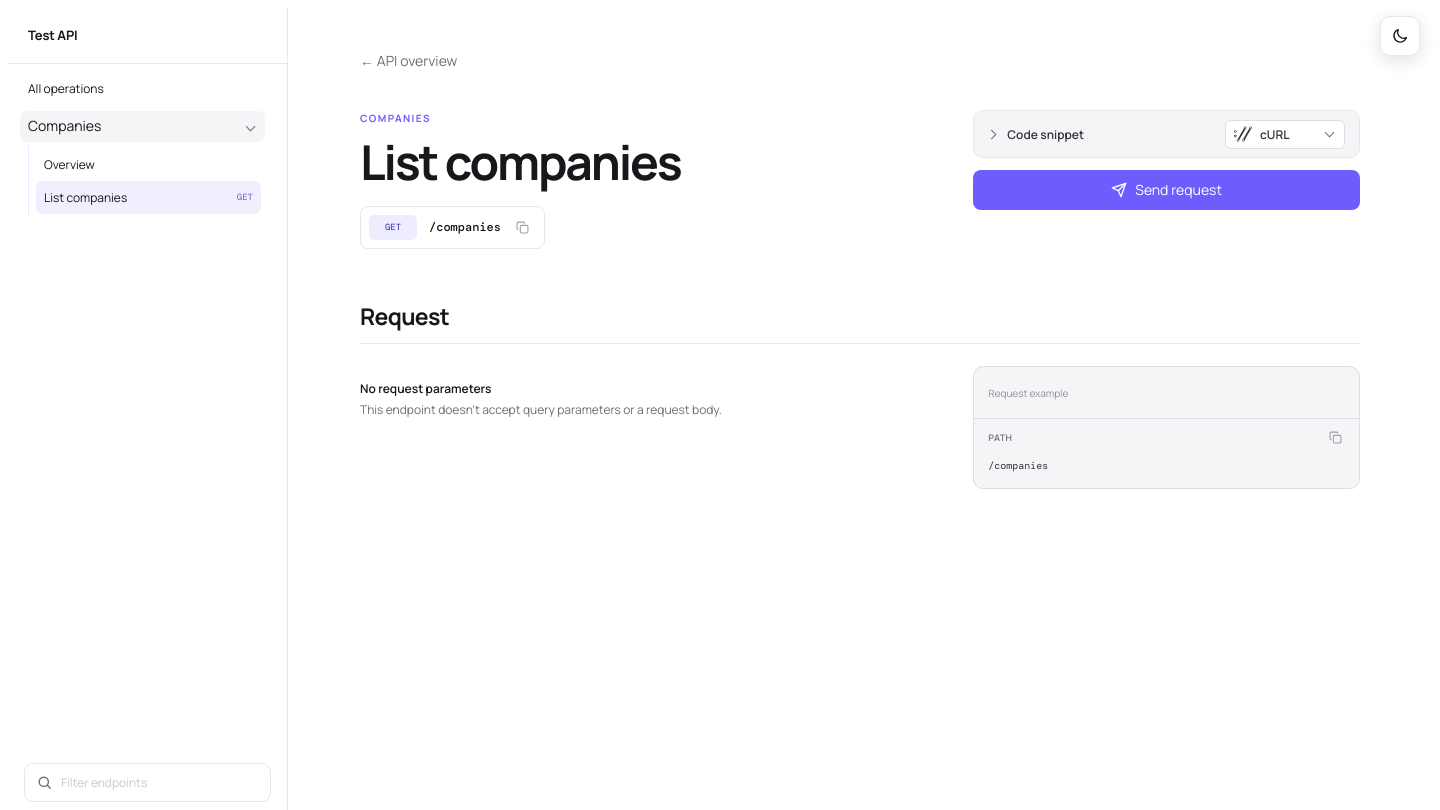
Test: Speccy navigation › opens an endpoint route directly
Expected: the heading "List companies" is shown, [360, 136, 680, 188]
Click the link "Companies": [396, 118] box [360, 110, 431, 126]
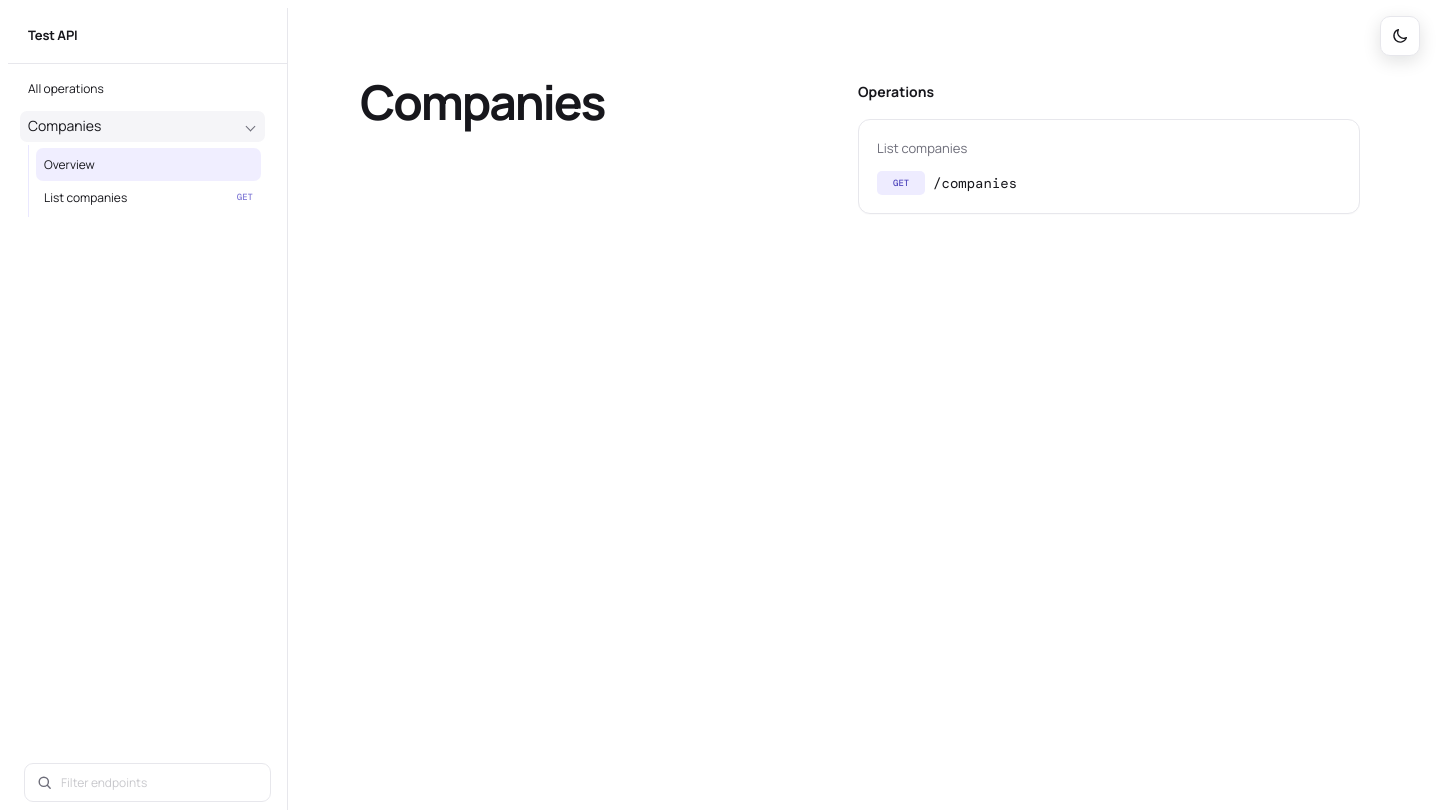
Expected: the heading "Companies" is shown, [360, 69, 604, 134]
Result: the heading "Operations" is shown at [858, 82, 934, 101]
